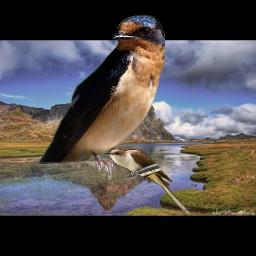Cuckoo: (103, 148, 191, 215)
Swallow: (37, 14, 165, 180)
